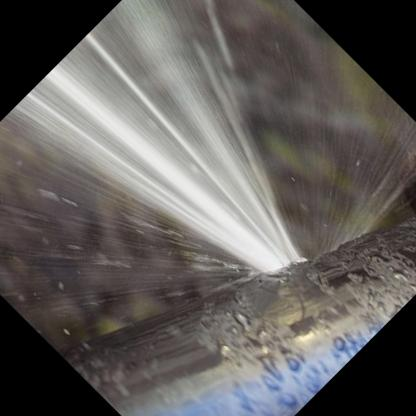burst: (211, 204, 334, 293)
